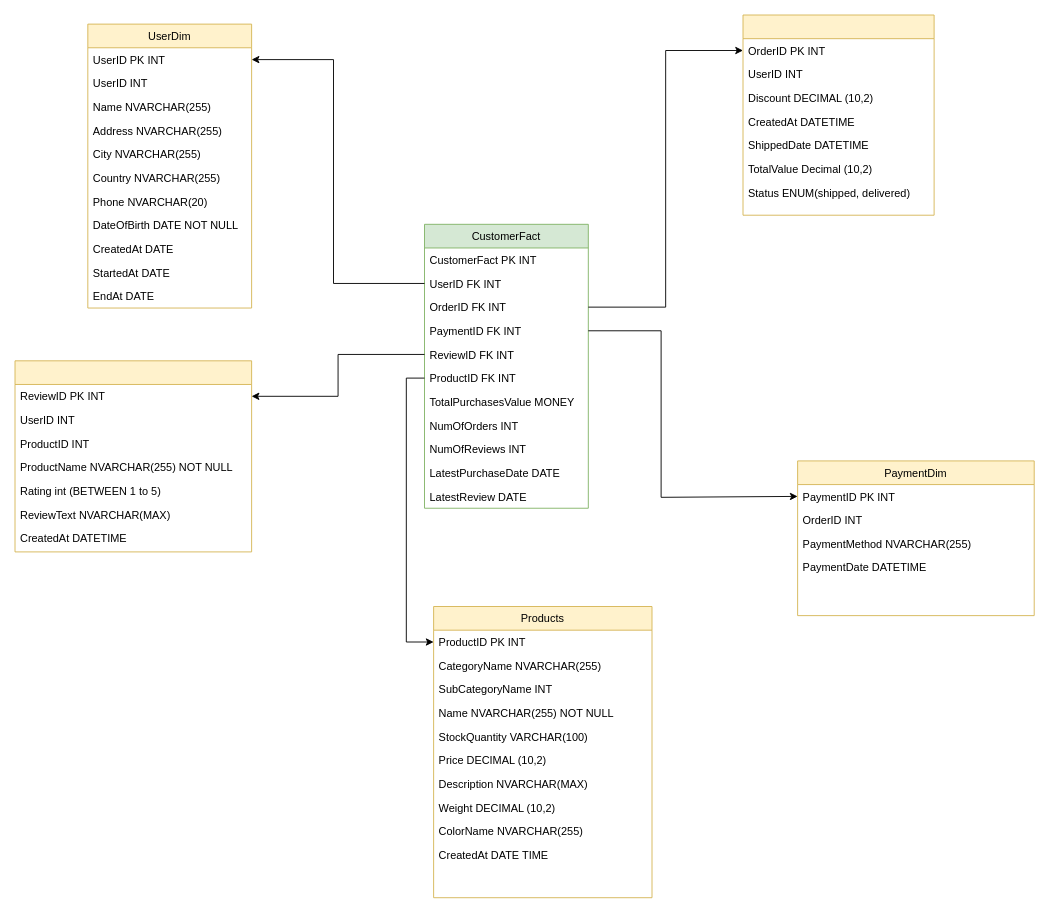
Image size: 1049x913. Some labels were removed from this diagram. The shapes that lost their labels are listed below. From the top down, each one's box as (x1, y1, x2, y2) in pixels, then its label:
(742, 14, 934, 215): OrderDim
(14, 360, 252, 552): ReviewDim
